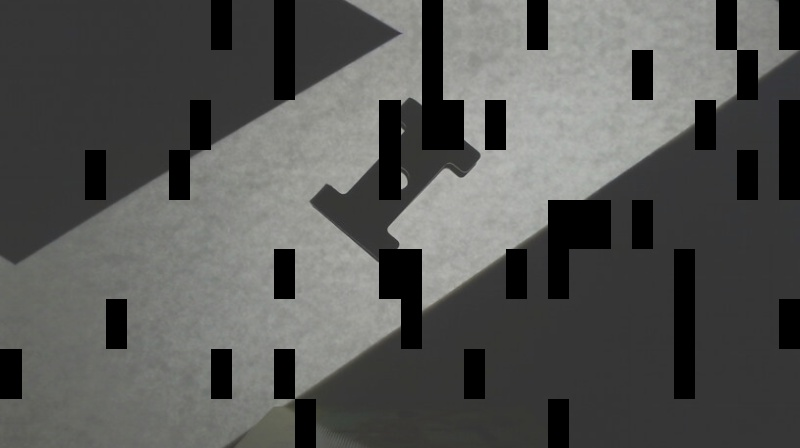O002: (304, 93, 482, 264)
